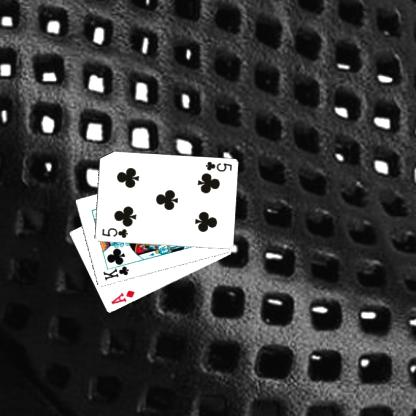5C: (202, 159, 232, 173), (99, 226, 129, 239)
AD: (108, 288, 136, 306)
KC: (100, 260, 131, 282)
